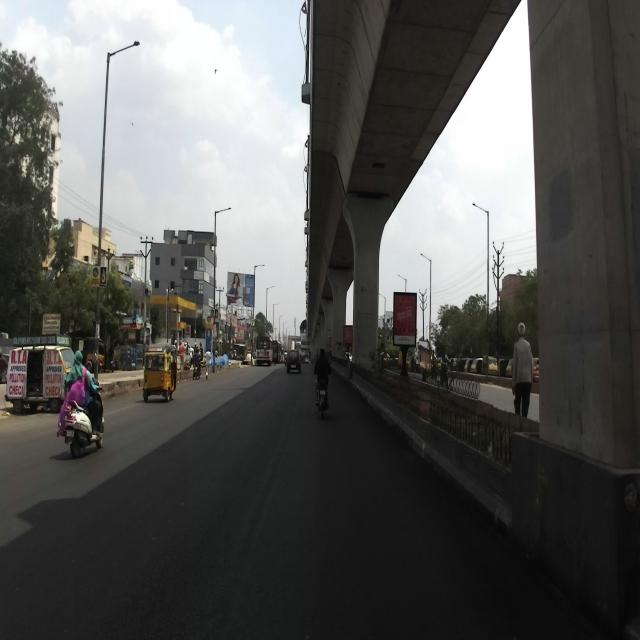Car_Maruti-Suzuki: (5, 337, 76, 413)
autorickshaw: (141, 342, 180, 402)
motorcycle_Hero: (313, 367, 330, 419)
scooter: (63, 378, 108, 457)
